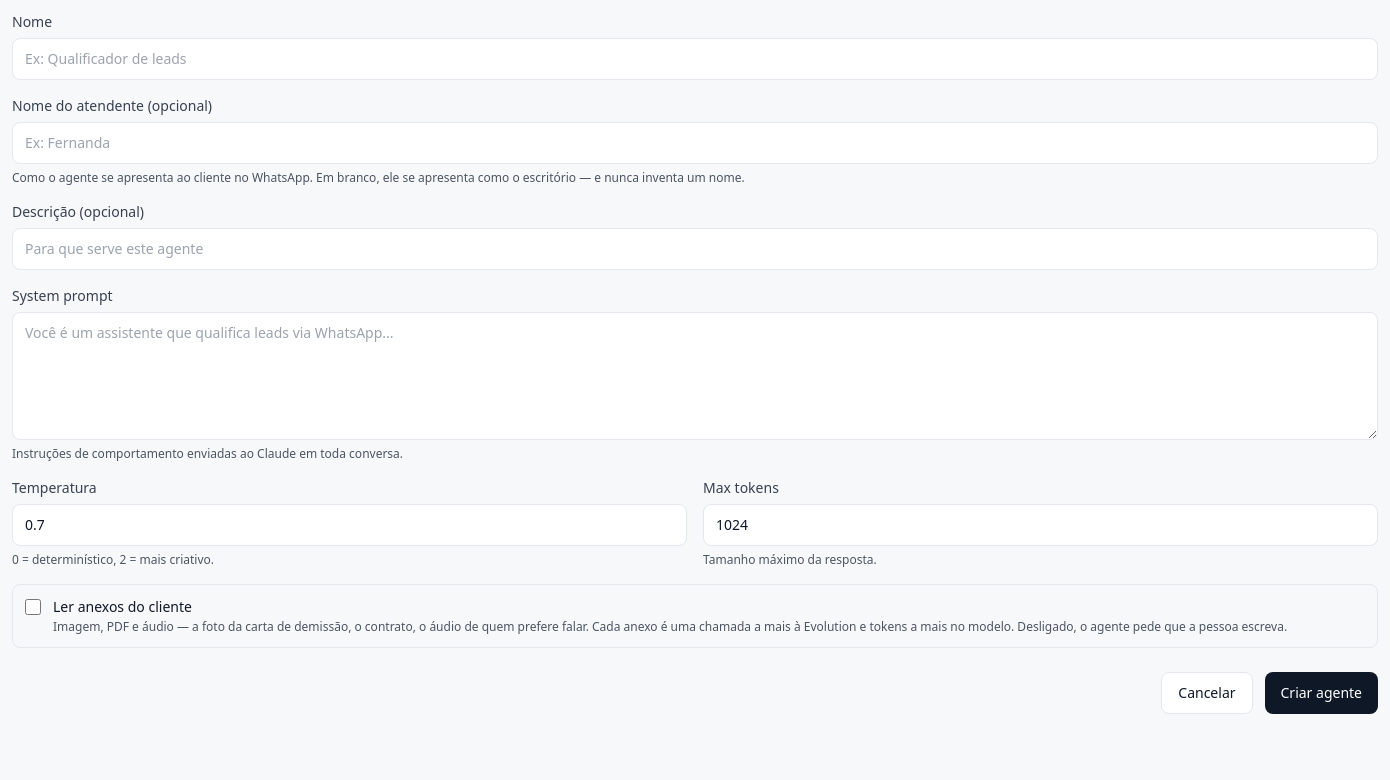
Test: AgentForm › mostra o erro do backend quando o envio falha
In the field labelled "Nome": (695, 59) [12,38,1378,80], type "Agente"
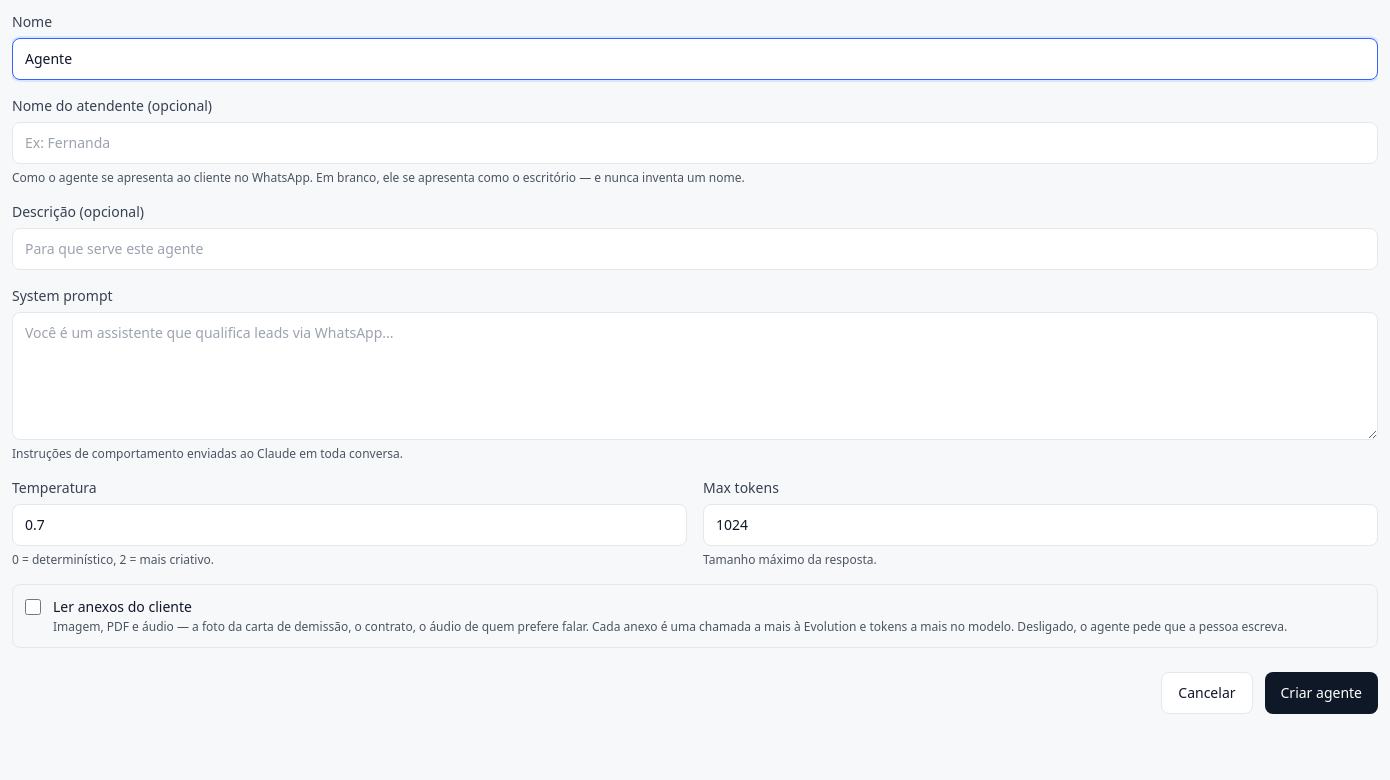
In the text box labelled "System prompt": (695, 376) [12,312,1378,440], type "Instruções"
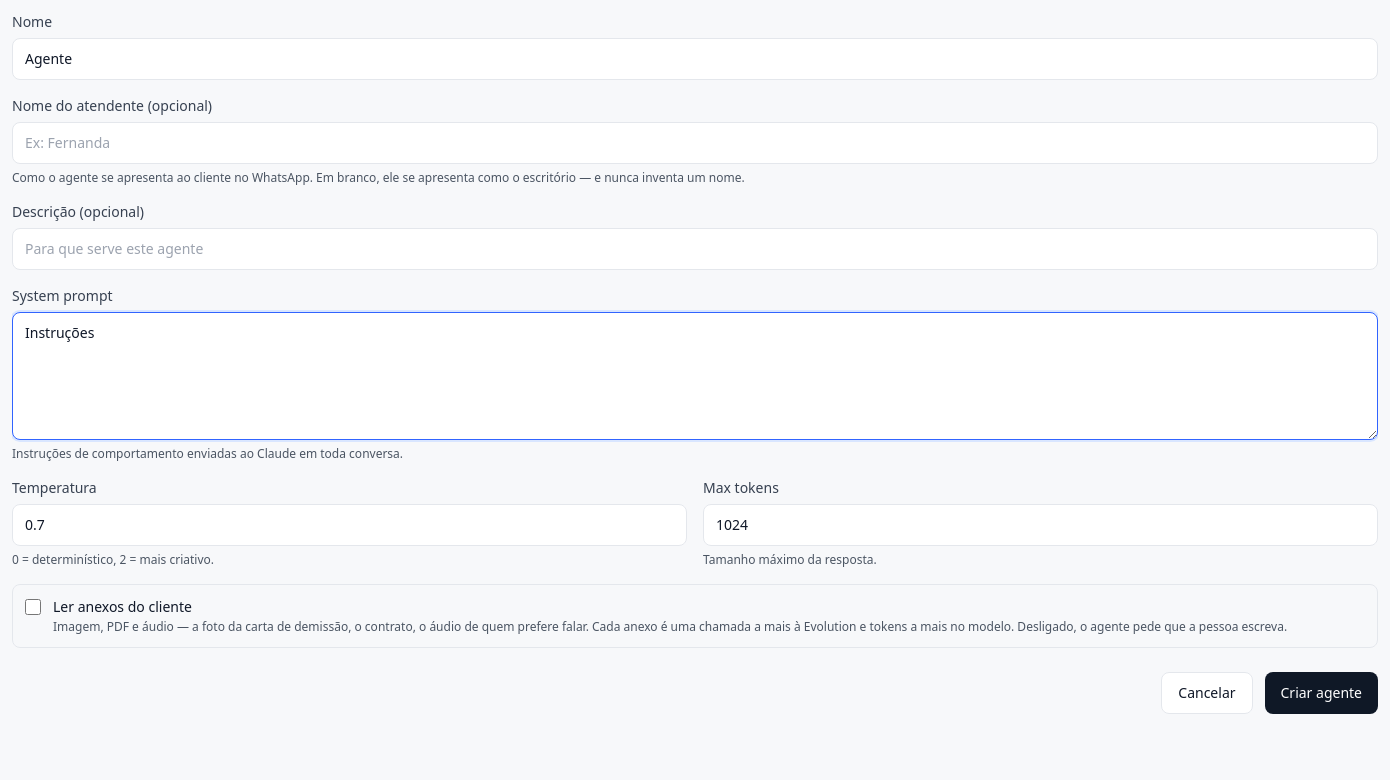
Click the button "Criar agente": (1321, 693) [1264,672,1378,714]
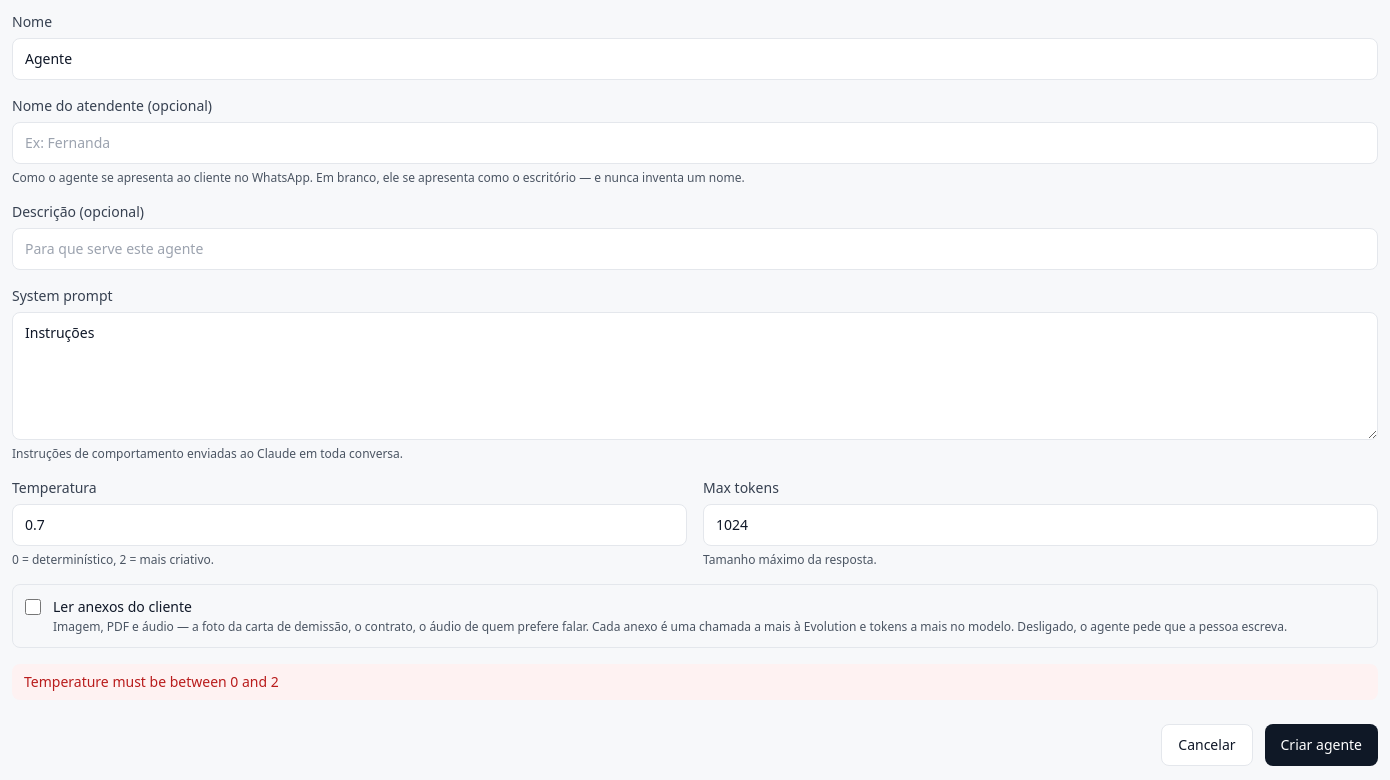
Expected: the message reads "Temperature must be between 0 and 2", [24,672,279,691]
